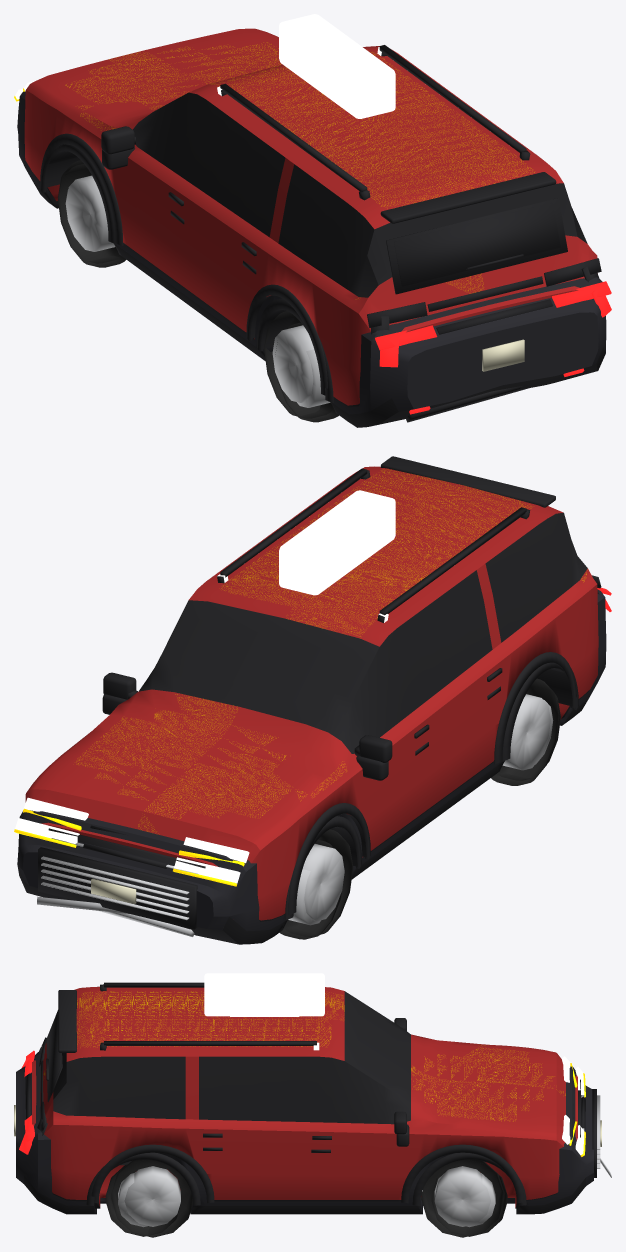
The model's file is traffic.glb.
3 views of the same model, one above another, from view 1: azimuth 30°, elevation 25°; view 2: azimuth 150°, elevation 25°; view 3: azimuth 270°, elevation 25° (orthographic). The views are drawn at different scales.
Parts seen in each view (by area): view 1: PROP_CarSUVRed, PROP_CarSedanBlack, PROP_Taxi; view 2: PROP_CarSUVRed, PROP_CarSedanBlack, PROP_Taxi; view 3: PROP_CarSUVRed, PROP_CarSedanBlack, PROP_Taxi.
Part boxes in pixels (x1,y1,x2,y2): PROP_CarSUVRed: (23, 28, 601, 418); PROP_CarSedanBlack: (14, 88, 611, 427); PROP_Taxi: (65, 14, 534, 299); PROP_CarSUVRed: (23, 456, 601, 936); PROP_CarSedanBlack: (14, 587, 611, 944); PROP_Taxi: (76, 469, 587, 833); PROP_CarSUVRed: (32, 982, 584, 1237); PROP_CarSedanBlack: (14, 1050, 611, 1236); PROP_Taxi: (43, 973, 565, 1121).
Size of the model in its own units: 2.14 by 2.07 by 5.19.
15 materials, 1 textured.
